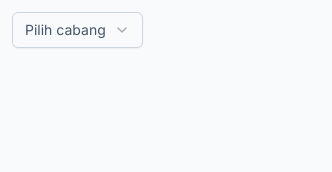
Test case: Select › opens the listbox and reports the chosen option
Click the dropdown named "Cabang olahraga" at (77, 30), box x1=12 y1=12 x2=143 y2=48
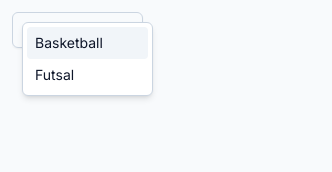
Click the option "Futsal" at (55, 74), box x1=35 y1=66 x2=74 y2=83
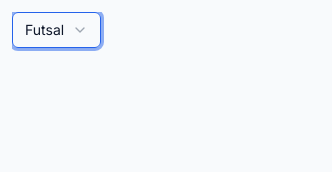
Now the dropdown reads "Futsal", box x1=12 y1=12 x2=101 y2=48
Now the list is gone
